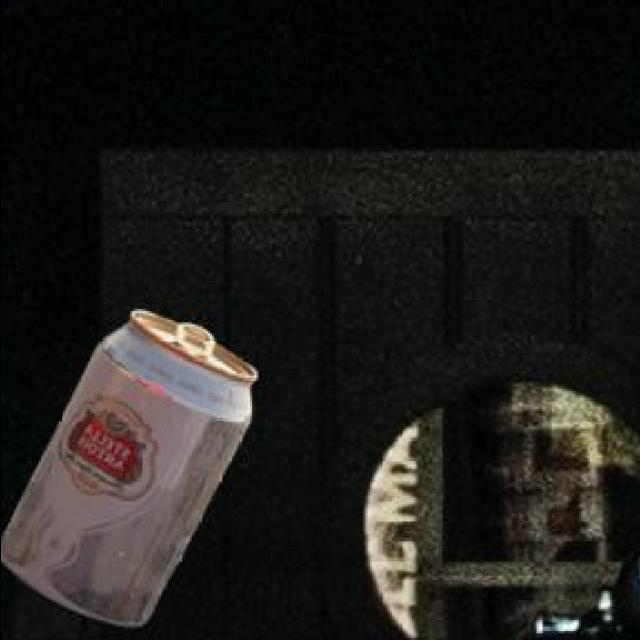logam: (0, 308, 252, 623)
